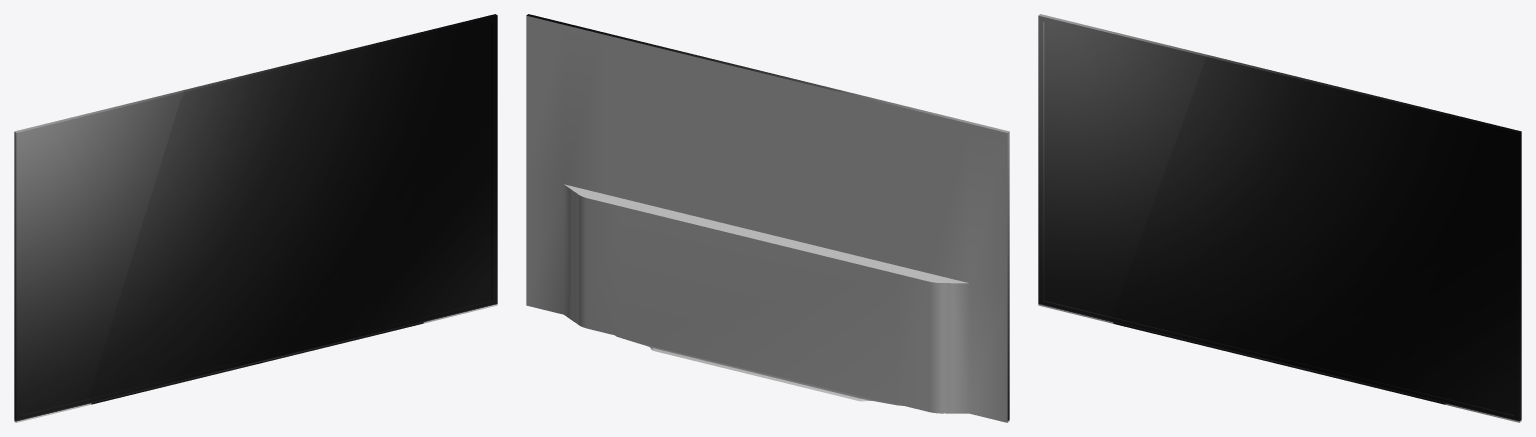
File: LG C9 OLED.fbx
3 renders of one model, left to right at view 1: azimuth 30°, elevation 25°; view 2: azimuth 150°, elevation 25°; view 3: azimuth 330°, elevation 25°, orthographic.
Parts seen in each view (by area): view 1: LG C9; view 2: LG C9; view 3: LG C9.
Boxes of the visible parts, x1,y1,x2,y2 form: LG C9: (14,14,497,422); LG C9: (526,14,1009,422); LG C9: (1038,14,1521,422).
Bounding box in the file's own units: 10058 × 5882 × 438.
